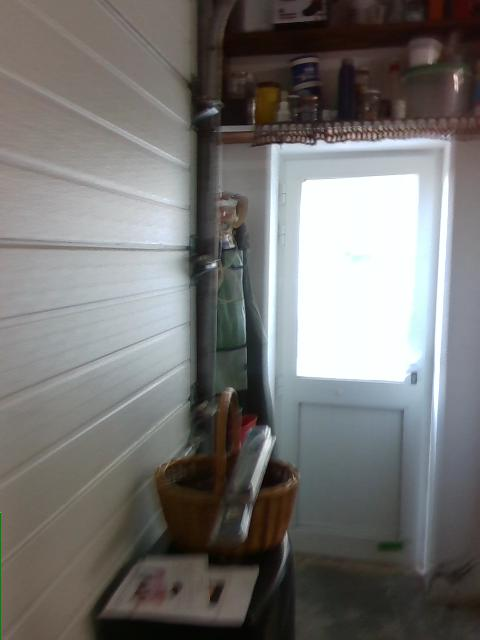door: (270, 138, 453, 578)
